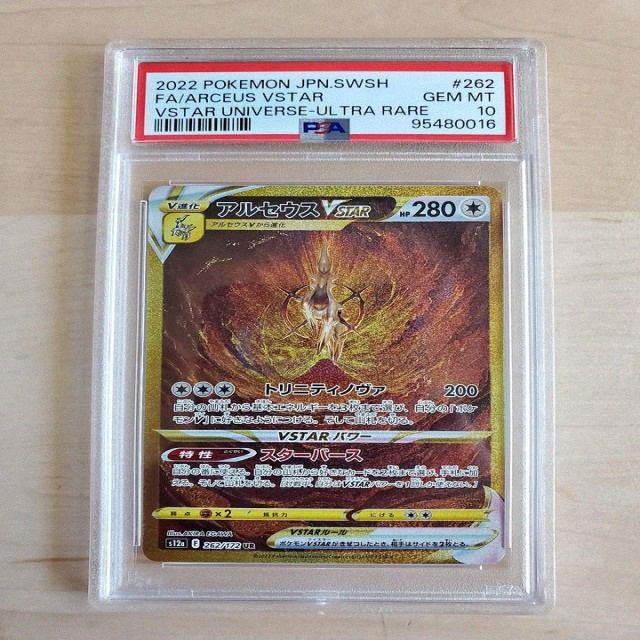card: (141, 184, 506, 565)
